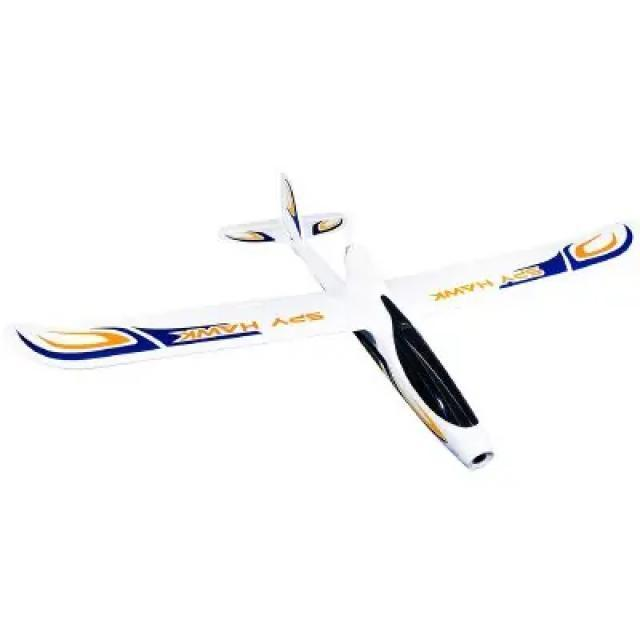UAV: (61, 163, 572, 514)
